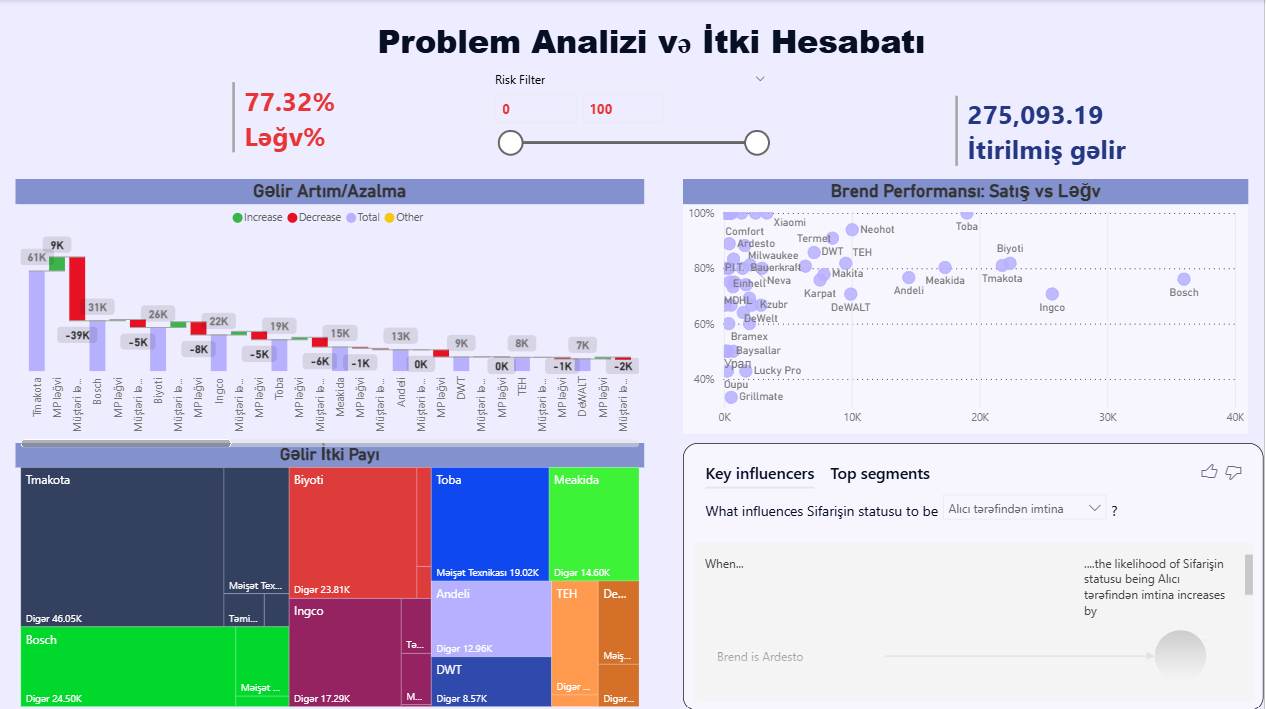

The dashboard page shown, as its layout file describes it:
{"tool":"powerbi","page":{"name":"Problem Analizi","canvas":[1280,720],"ordinal":2},"visuals":[{"type":"multiRowCard","fields":{"Values":["Export.Ləğv%"]},"box":[233.2,78.7,169.6,107.5],"z":0},{"type":"multiRowCard","fields":{"Values":["Export.İtirilmiş gəlir"]},"box":[963,92.4,224.1,109],"z":1000},{"type":"keyDriversVisual","fields":{"Target":["Export.Sifarişin statusu"],"ExplainBy":["Export.Brend","Export.Kateqoriya Qrupu","Export.Ödəniş üsulu"]},"box":[693.5,448.2,586,271],"z":2000},{"type":"scatterChart","title":"Brend Performansı: Satış vs Ləğv","fields":{"Category":["Export.Brend"],"X":["Export.Ümumi Satış"],"Y":["Export.Ləğv%"]},"box":[693.5,181.7,570.9,257.4],"z":3000},{"type":"textbox","box":[380.5,13.8,695,78.2],"z":4000},{"type":"slicer","fields":{"Values":["Risk Filter.Risk Filter"]},"box":[490.6,68.1,298.3,96.9],"z":5000},{"type":"treemap","title":"Gəlir İtki Payı","fields":{"Group":["Export.Brend"],"Values":["Export.İtirilmiş gəlir"],"Details":["Export.Kateqoriya Qrupu"]},"box":[19.7,448.2,634.5,271],"z":6000},{"type":"waterfallChart","title":"Gəlir Artım/Azalma","fields":{"Category":["Export.Brend"],"Y":["Export.İtirilmiş gəlir"],"Breakdown":["Export.Ləğv tipi"]},"box":[19.7,181.7,634.5,275.6],"z":8000}]}

Visuals, with their boxes in screenshot pixels (x1, y1, x2, y2), scaled from the page's 1280x720 canvas onto the 1266x709 screenshot:
multiRowCard - Export.Ləğv%: select_region(231, 77, 398, 183)
multiRowCard - Export.İtirilmiş gəlir: select_region(952, 91, 1174, 198)
keyDriversVisual - Export.Sifarişin statusu x Export.Brend: select_region(686, 441, 1265, 708)
"Brend Performansı: Satış vs Ləğv" scatterChart: select_region(686, 179, 1251, 432)
textbox: select_region(376, 14, 1064, 91)
slicer - Risk Filter.Risk Filter: select_region(485, 67, 780, 162)
"Gəlir İtki Payı" treemap: select_region(19, 441, 647, 708)
"Gəlir Artım/Azalma" waterfallChart: select_region(19, 179, 647, 450)
